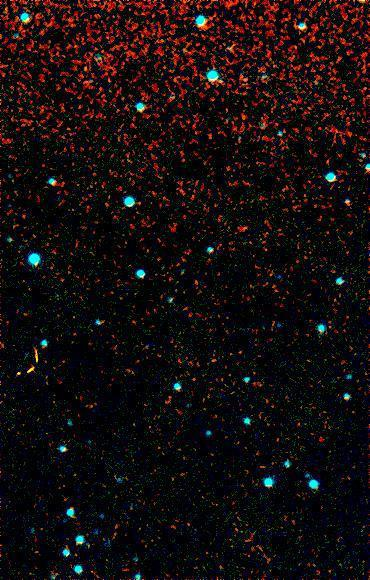star: (226, 100, 256, 130)
